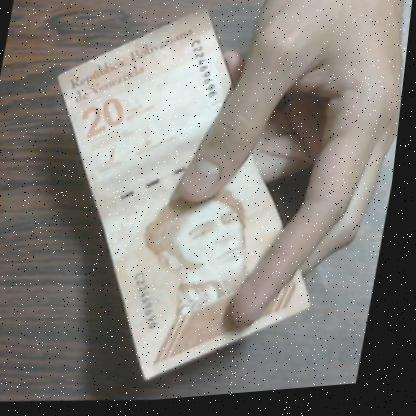vef_front: (0, 0, 383, 410)
